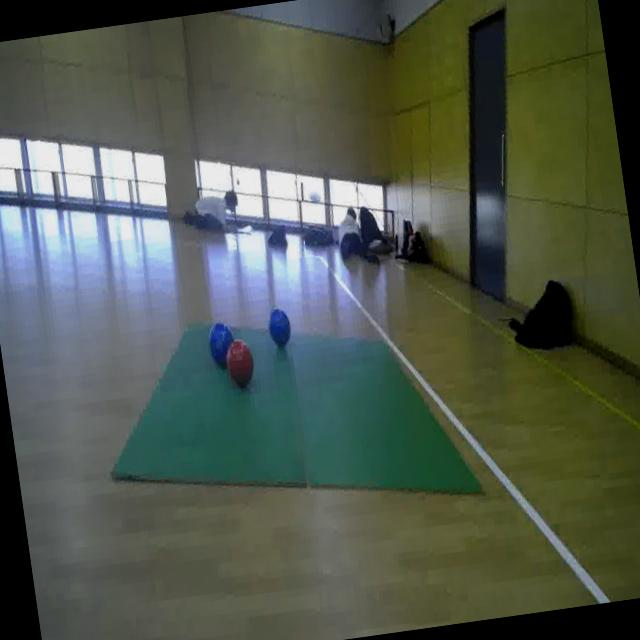blue_ball: (206, 317, 239, 372), (264, 302, 296, 354)
red_ball: (223, 339, 260, 392)
